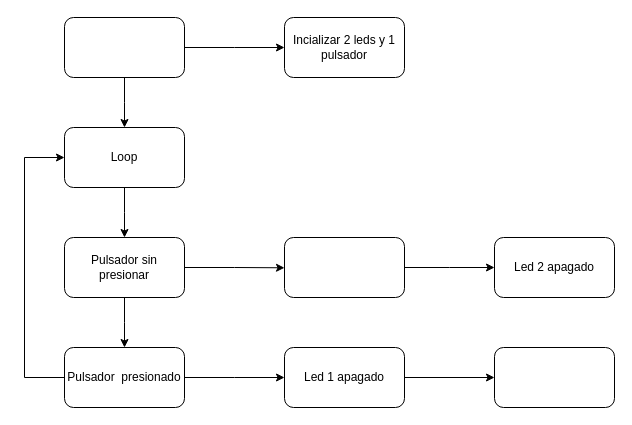
The diagram is 632 pixels wide and 425 high, and some of its shapes have lost their labels. The centre of each missing label's shape, as x and y in pixels:
Led 1 encendido: the point at 344,267
Led 2 encendido: the point at 554,377
Setup: the point at 124,47
